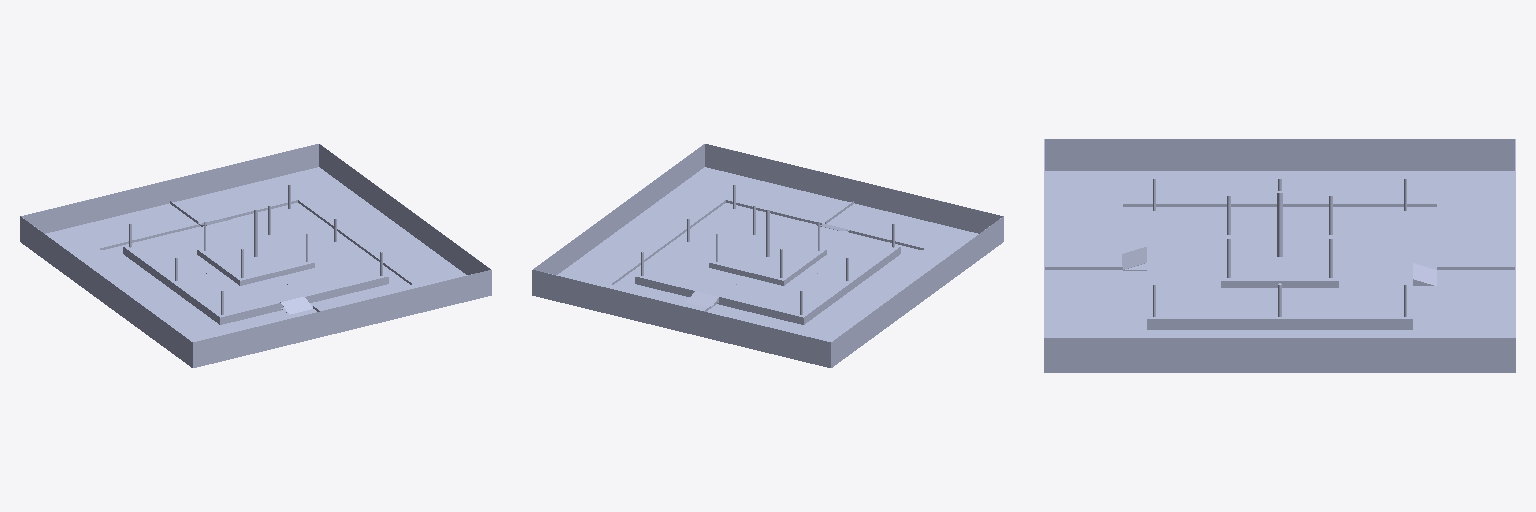
URDF robot description (wtr_map):
<?xml version="1.0" encoding="utf-8"?>
<!-- This URDF was automatically created by SolidWorks to URDF Exporter! Originally created by [author] ([email redacted]) 
     Commit Version: 1.6.0-4-g7f85cfe  Build Version: 1.6.7995.38578
     For more information, please see http://wiki.ros.org/sw_urdf_exporter -->
<robot
  name="wtr_map">
  <link
    name="base_link">
    <inertial>
      <origin
        xyz="0.000931113698529841 0.00682478761323447 0.142492659866858"
        rpy="0 0 0" />
      <mass
        value="24189.8499168554" />
      <inertia
        ixx="201241.60019725"
        ixy="-22.1780036391344"
        ixz="0.0600350820872066"
        iyy="201033.885443341"
        iyz="0.581278555460463"
        izz="401340.892397548" />
    </inertial>
    <visual>
      <origin
        xyz="0 0 0"
        rpy="0 0 0" />
      <geometry>
        <mesh
          filename="package://wtr_map/meshes/base_link.stl" />
      </geometry>
      <material
        name="">
        <color
          rgba="0.792156862745098 0.819607843137255 0.933333333333333 1" />
      </material>
    </visual>
    <collision>
      <origin
        xyz="0 0 0"
        rpy="0 0 0" />
      <geometry>
        <mesh
          filename="package://wtr_map/meshes/base_link.stl" />
      </geometry>
    </collision>
  </link>
</robot>

--- Facts derived from the render (not from the file) ---
3 views of the same robot in one strip: view 1: azimuth 30°, elevation 25°; view 2: azimuth 150°, elevation 25°; view 3: azimuth 270°, elevation 25° (orthographic).
Robot: wtr_map — 1 links, 0 joints (none); root link base_link; default pose: all joints at 0.
Links seen in each view (by area): view 1: base_link; view 2: base_link; view 3: base_link.
Boxes of the visible links, x1=… form: base_link: x1=20, y1=144, x2=491, y2=367; base_link: x1=532, y1=144, x2=1003, y2=367; base_link: x1=1044, y1=139, x2=1515, y2=372.
Bounding box of the posed robot: 12.01 × 12.01 × 2.3 m (x, y, z).
Meshes: 1 distinct files referenced, 1 mesh visuals loaded (1 binary STL).